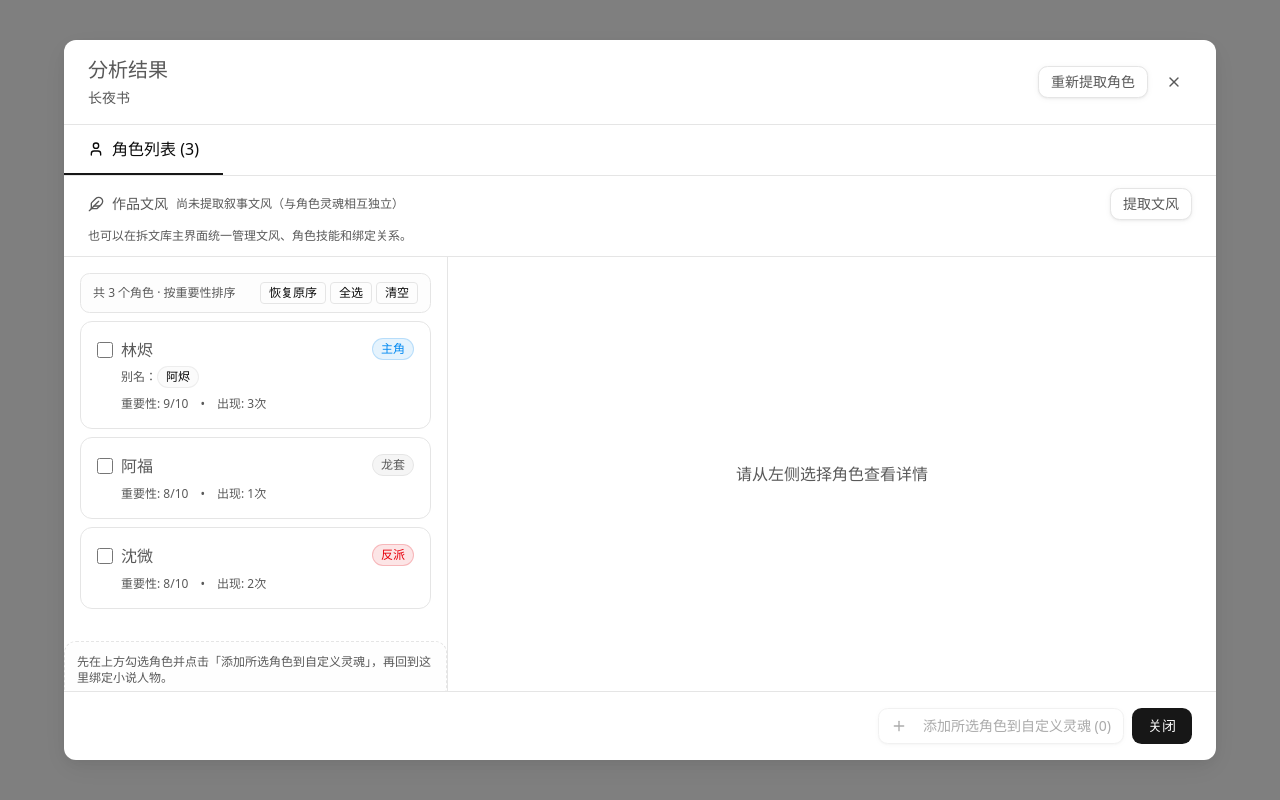
Test: BookAnalysisResultViewer › renders characters sorted by importance and shows full detail on select
Check: the text "共 3 个角色 · 按重要性排序" is shown, box [93,285,236,301]
Check: the button "阿福 龙套 重要性: 8/10 • 出现: 1次" is shown, box [121,454,414,502]
Note: 选中林烬 → 详情
Click the button "林烬 别名： 阿烬 主角 重要性: 9/10 • 出现: 3次" at [137, 350], box [121,338,414,412]
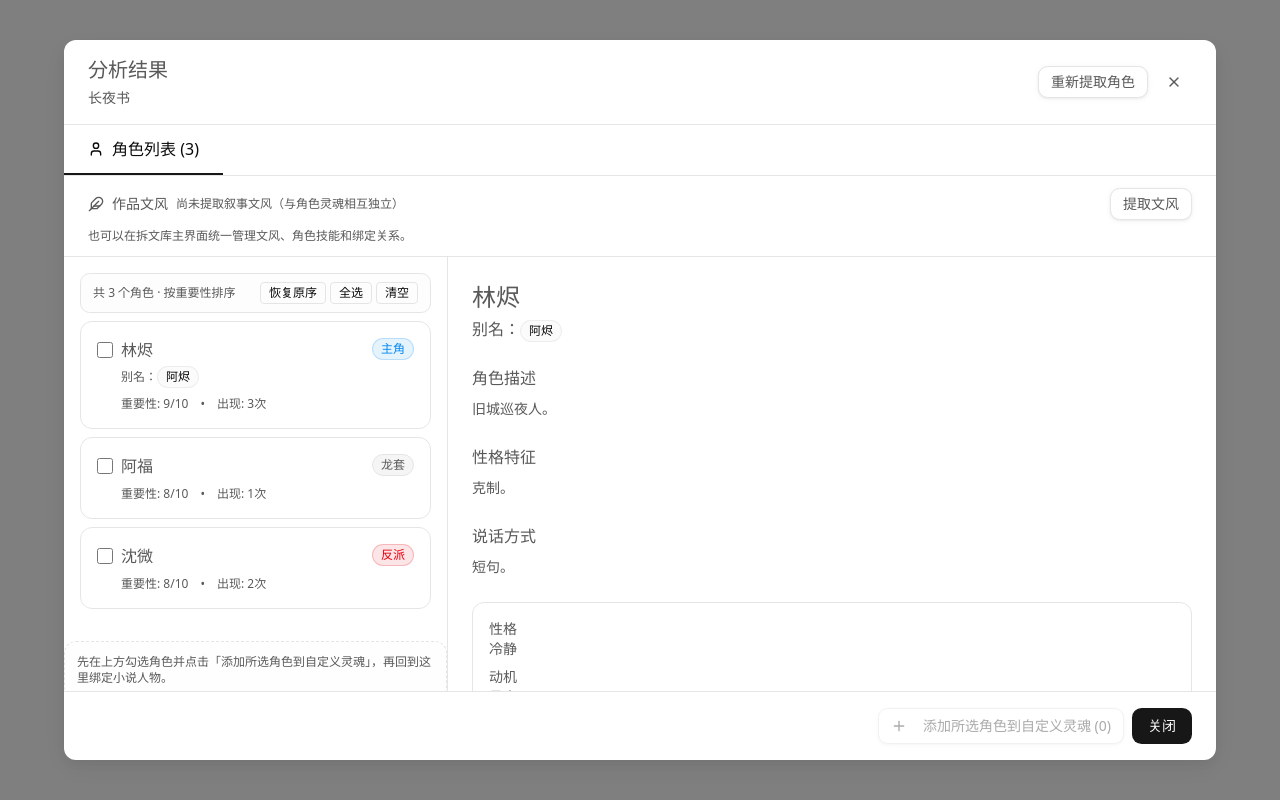
Check: the text "旧城巡夜人。" is shown, box [472,399,556,418]
Check: the text "克制。" is shown, box [472,478,514,497]
Check: the text "短句。" is shown, box [472,556,514,576]
Note: 沈微：空描述/性格/说话方式 → 兜底文案（两个「暂无」）
Click the button "沈微 反派 重要性: 8/10 • 出现: 2次" at [137, 556], box [121,544,414,592]
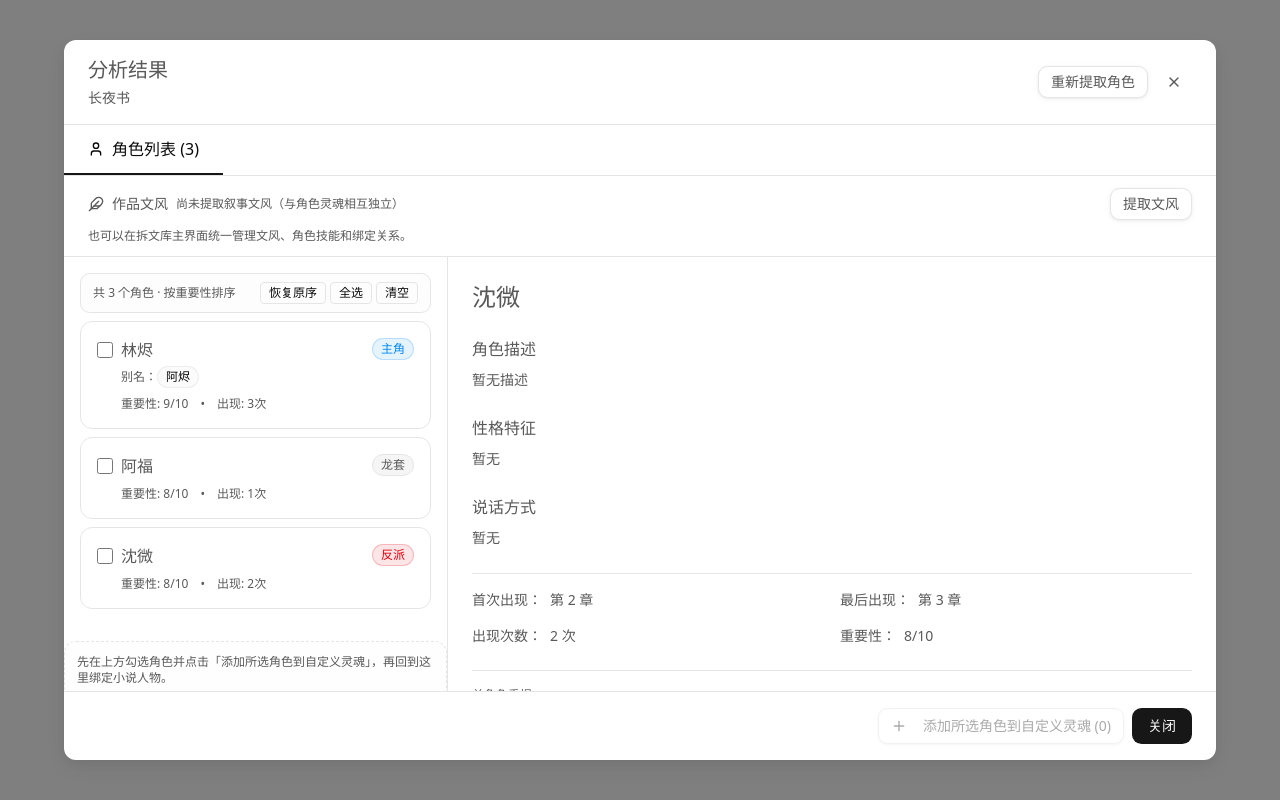
Check: the text "暂无描述" is shown, box [472,370,528,389]
Note: 阿福：sixDimensionResearch 存在 → 不渲染 SimpleProfileCard
Click the button "阿福 龙套 重要性: 8/10 • 出现: 1次" at [137, 466], box [121,454,414,502]
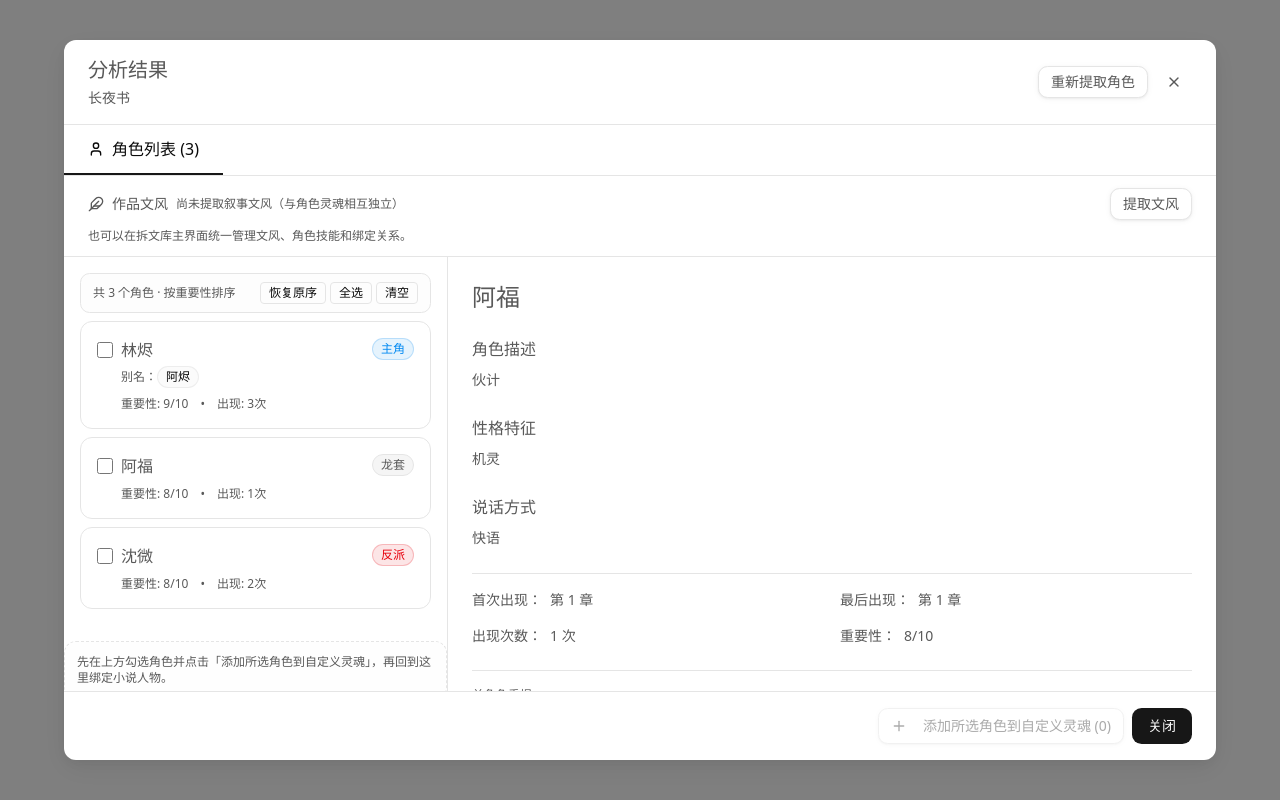
Check: the text "行为模式" is not shown
Check: the text "伙计" is shown, box [472,370,500,389]
